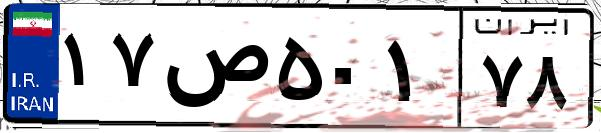0: (330, 28, 385, 110)
1: (385, 28, 445, 110), (57, 26, 110, 100)
5: (270, 28, 330, 110)
7: (475, 38, 525, 113), (110, 28, 158, 98)
8: (525, 38, 570, 115)
ص: (158, 20, 270, 120)
